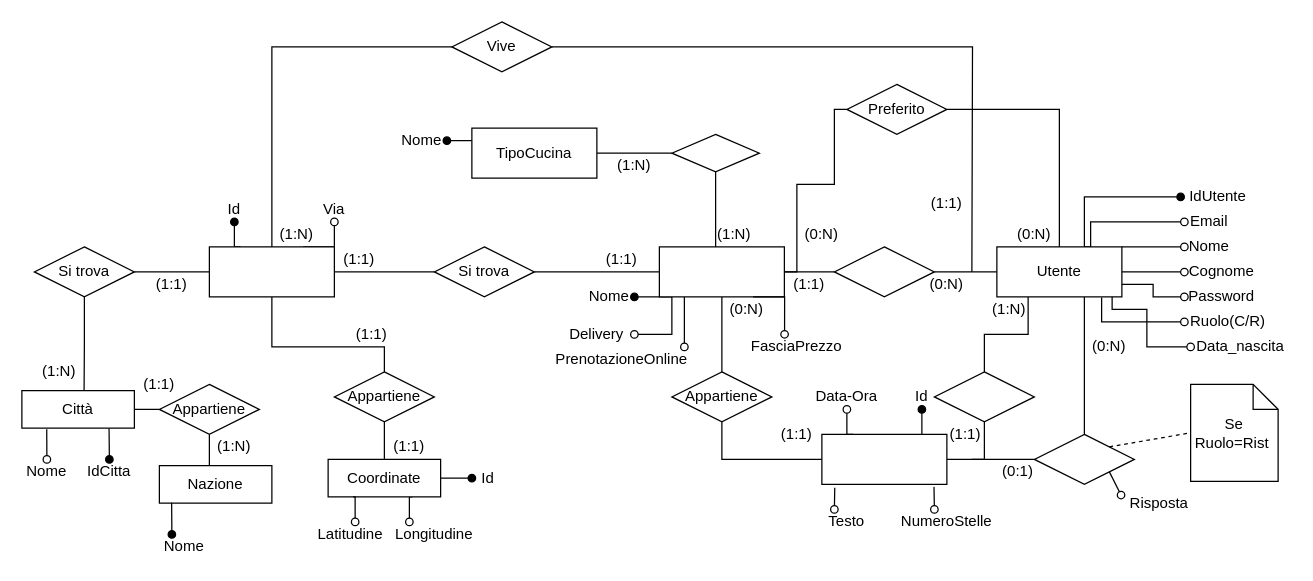
This 1313x581 diagram has some shape labels left out. The box of each missing label's shape, as (x1, y1, x2, y2) in pixels:
Luogo: (208, 246, 334, 297)
Offre: (671, 133, 759, 172)
Possiede: (833, 246, 934, 297)
Recensione: (821, 433, 947, 484)
Risponde: (1033, 433, 1134, 484)
Ristorante: (658, 246, 784, 297)
Scrive: (933, 371, 1034, 422)
